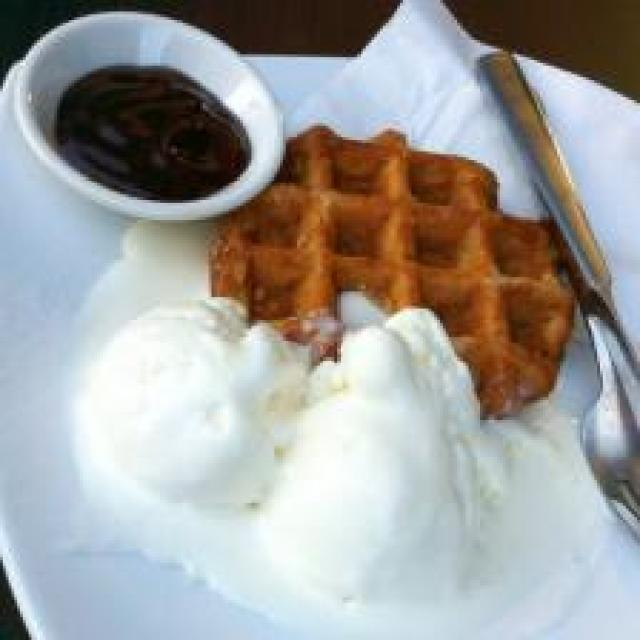Waffles: (209, 101, 580, 416)
